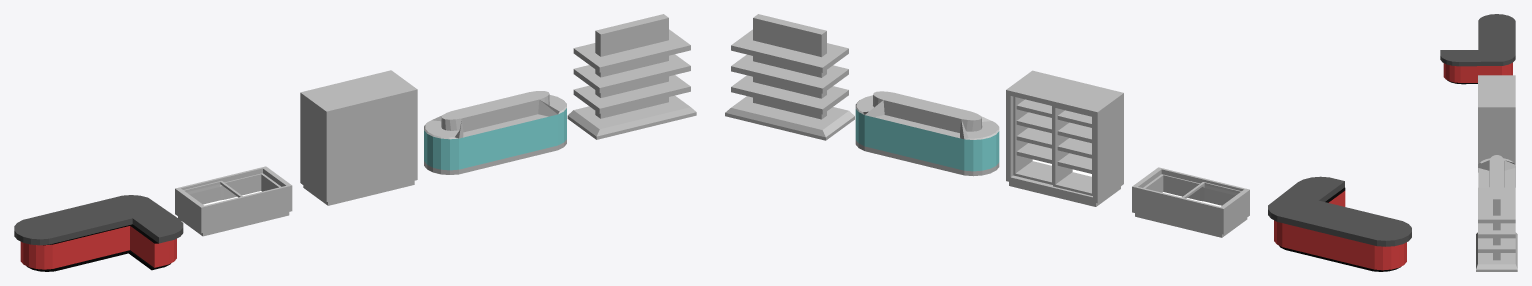
The model's file is Market.fbx.
The picture shows the model from 3 angles, left to right: view 1: azimuth 30°, elevation 25°; view 2: azimuth 150°, elevation 25°; view 3: azimuth 270°, elevation 25°; orthographic projection. The views are drawn at different scales.
Parts seen in each view (by area): view 1: Tall Freezer, Vertical Shelf, Cashier, Horizontal Shelf Thingy, Low Freezer; view 2: Tall Freezer, Vertical Shelf, Horizontal Shelf Thingy, Cashier, Low Freezer; view 3: Vertical Shelf, Cashier, Tall Freezer, Horizontal Shelf Thingy.
Part boxes in pixels (x1=…): Tall Freezer: x1=300, y1=70, x2=417, y2=205; Vertical Shelf: x1=567, y1=14, x2=696, y2=139; Cashier: x1=14, y1=195, x2=183, y2=271; Horizontal Shelf Thingy: x1=424, y1=91, x2=566, y2=174; Low Freezer: x1=175, y1=166, x2=292, y2=236; Tall Freezer: x1=1006, y1=70, x2=1123, y2=206; Vertical Shelf: x1=725, y1=14, x2=854, y2=140; Horizontal Shelf Thingy: x1=855, y1=91, x2=999, y2=176; Cashier: x1=1268, y1=176, x2=1411, y2=271; Low Freezer: x1=1132, y1=167, x2=1249, y2=237; Vertical Shelf: x1=1476, y1=175, x2=1517, y2=271; Cashier: x1=1440, y1=14, x2=1515, y2=84; Tall Freezer: x1=1478, y1=75, x2=1515, y2=172; Horizontal Shelf Thingy: x1=1478, y1=155, x2=1515, y2=187.
Size of the model in its own units: 2920 by 400 by 408.
